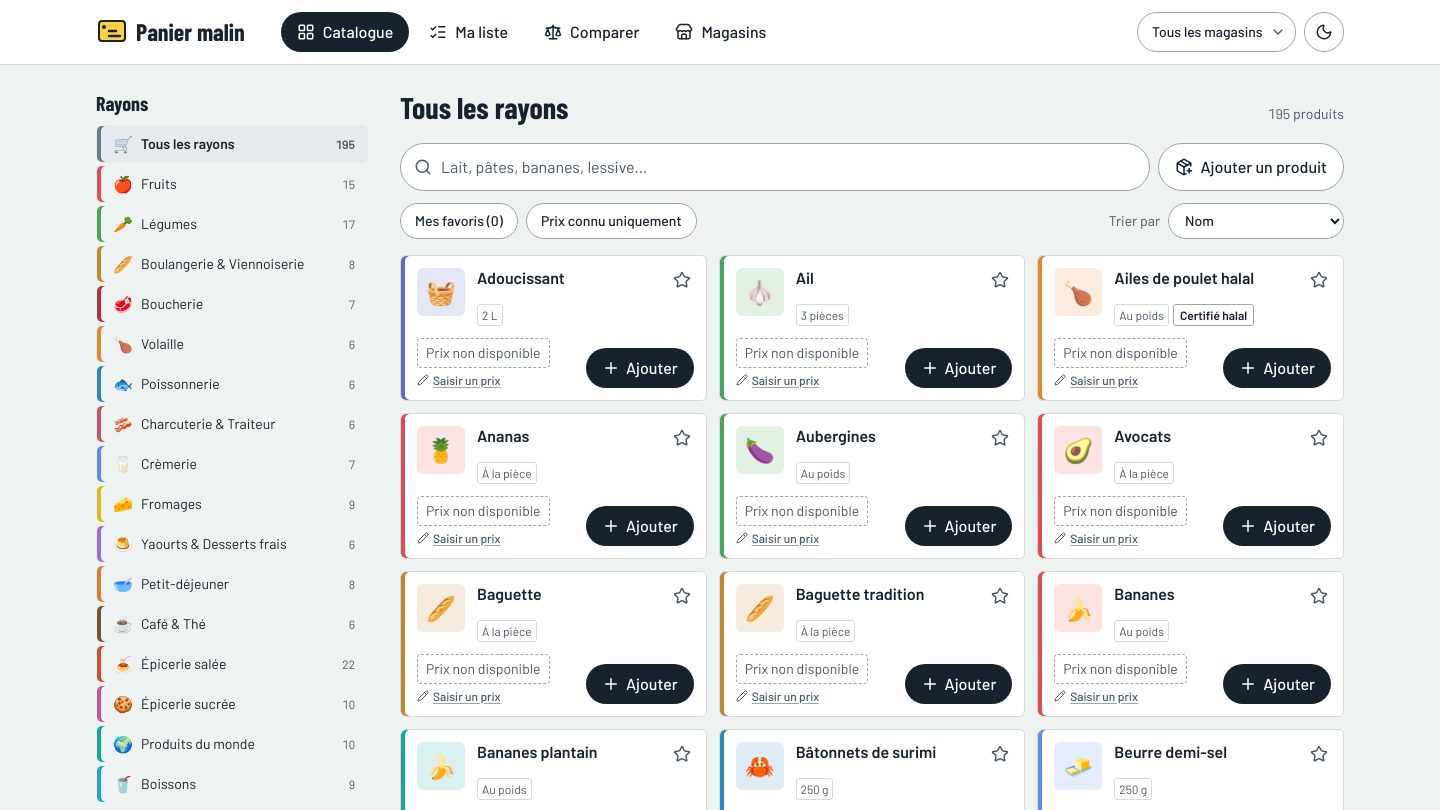
prix sur les fiches › affiche le prix le plus bas de vos magasins, avec magasin, date et source
The image size is (1440, 810).
Type "bananes" into the search field.
click(775, 166); type("bananes")  # box [400,142,1150,190]
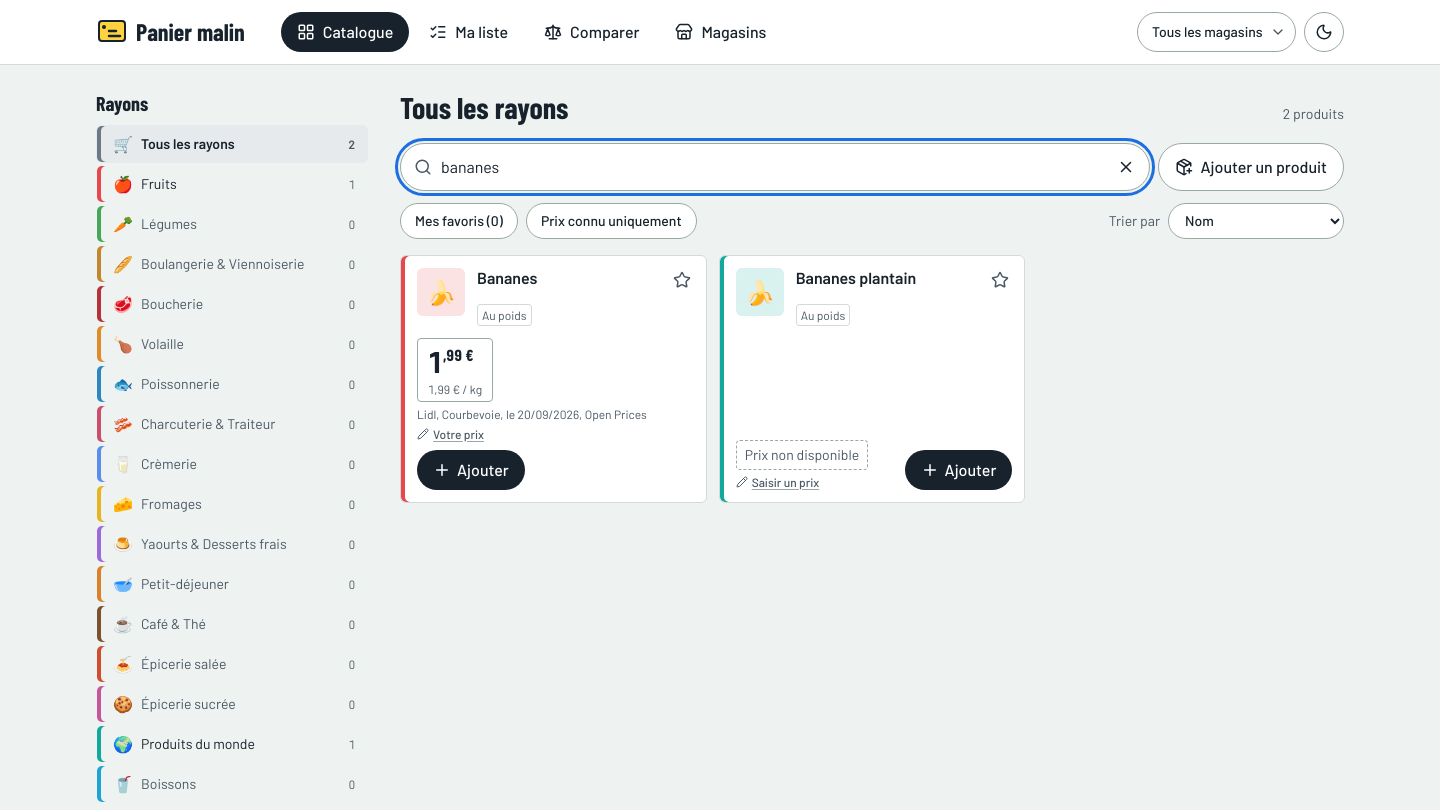
Expected: the element labelled "1,99 €" is shown, [428,342,474,378]
Expected: the element "Bananes" shows "1,99 € / kg", [400,254,707,502]
Select "Carrefour" in the dropdown named "Mon magasin" at (1216, 32), box [1137,12,1296,52]
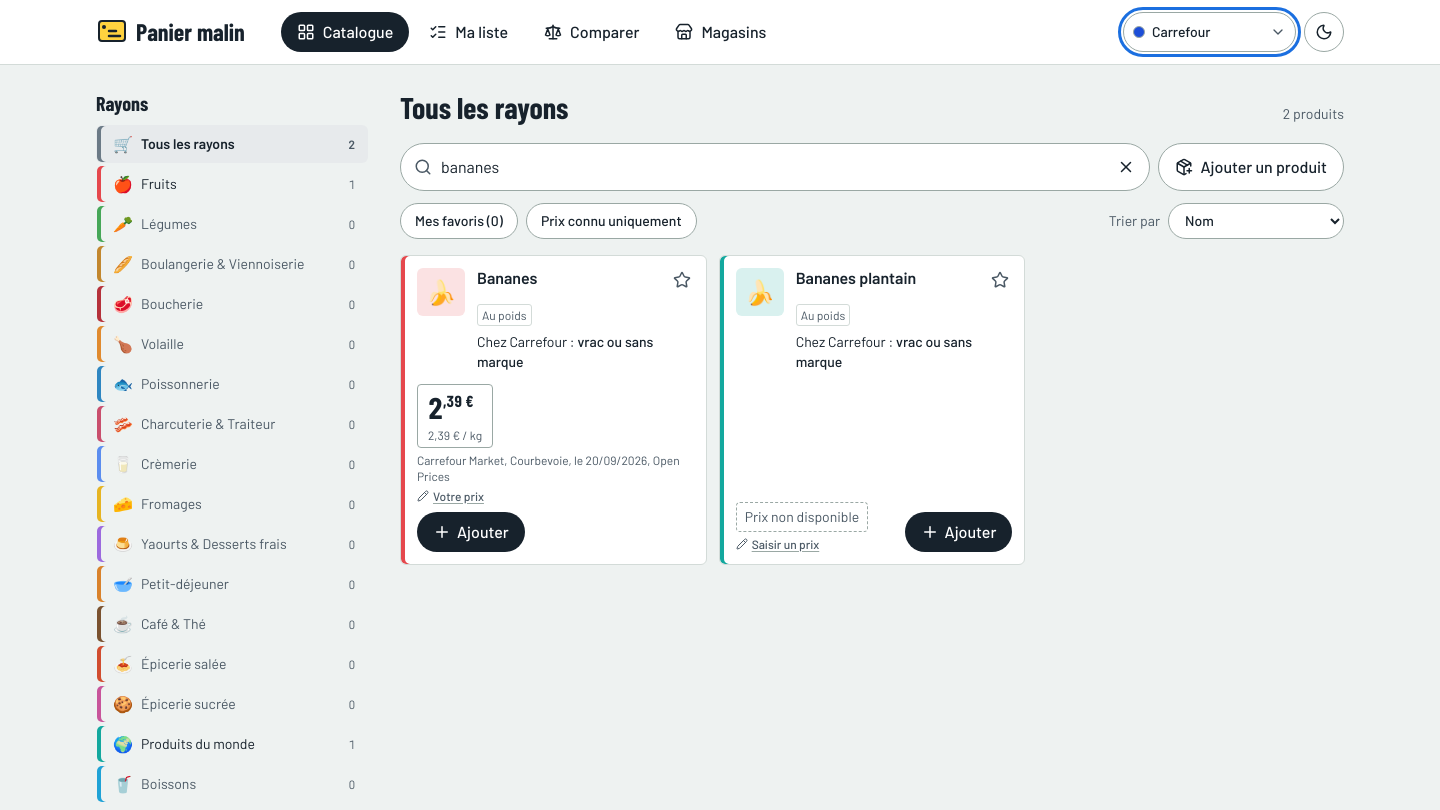
Expected: the element labelled "2,39 €" is shown, [428,388,474,424]
